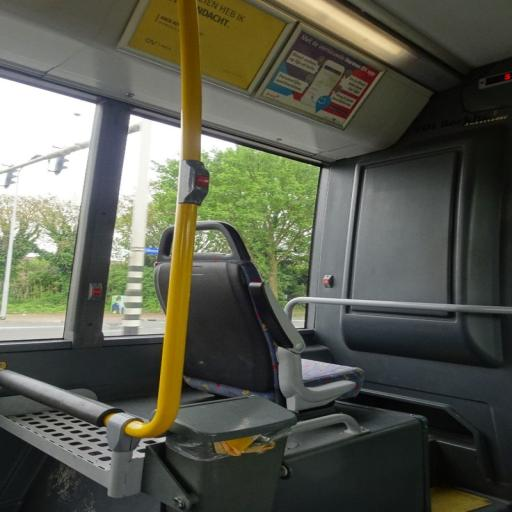bottle: (155, 221, 363, 411)
